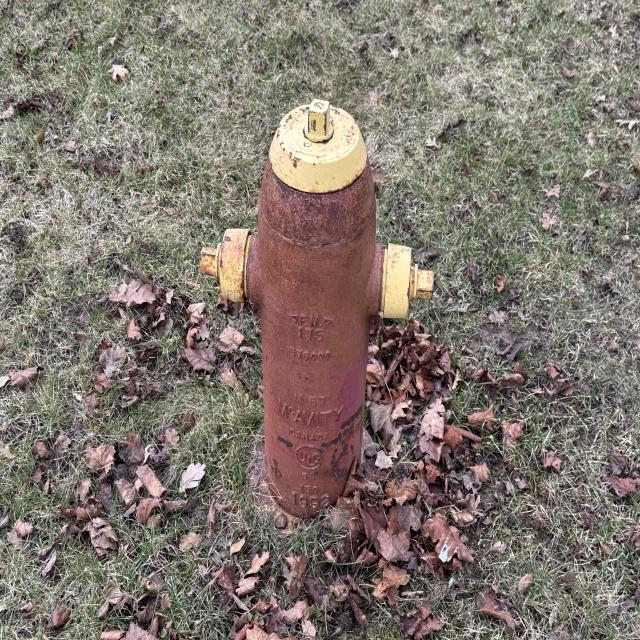Fire hydrant: (198, 99, 438, 536)
